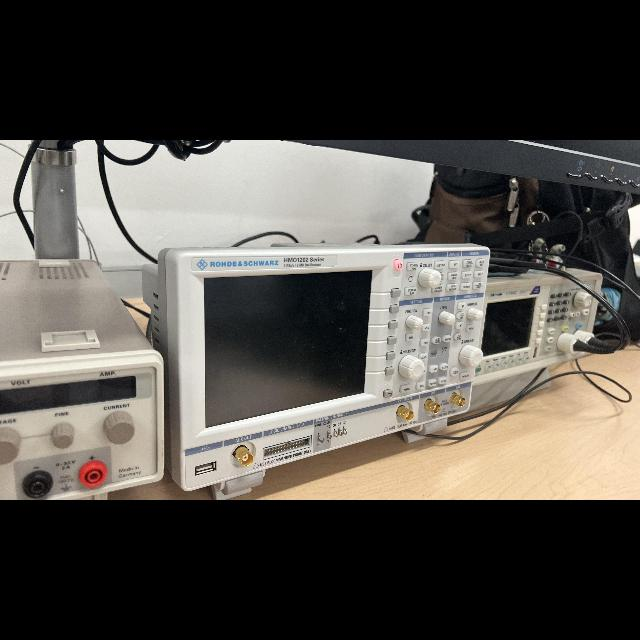Digital-Oscilloscope: (143, 243, 489, 499)
